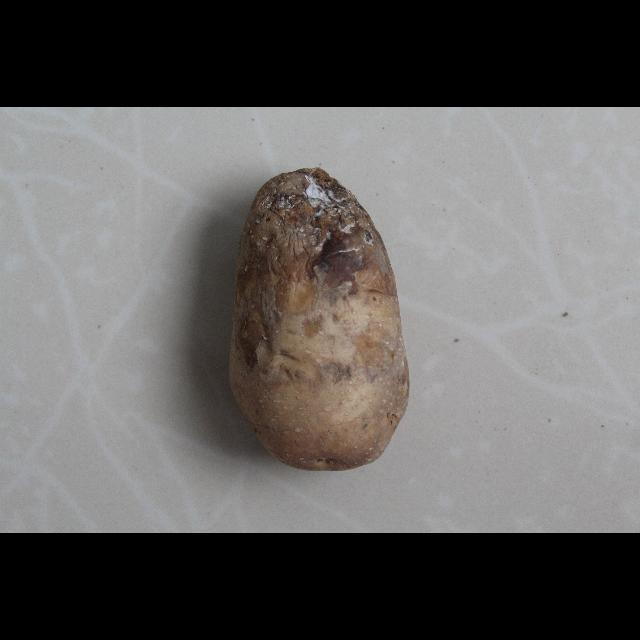Diseased-fungal potato: (224, 160, 410, 478)
